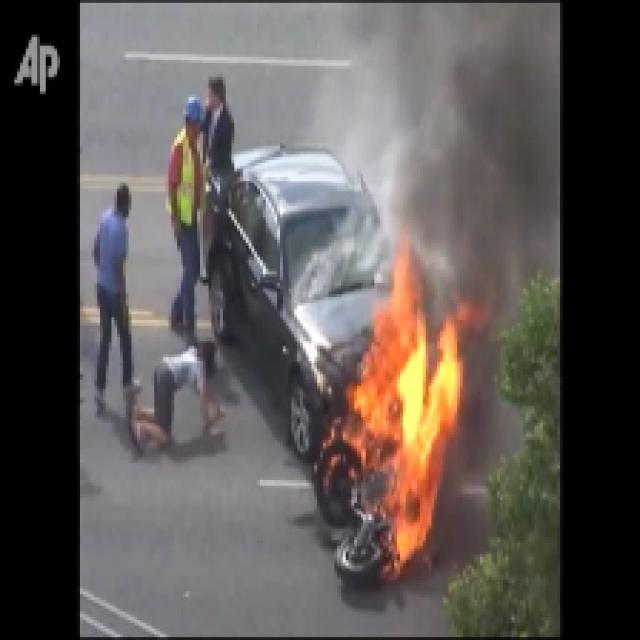Fire: (338, 316, 460, 560)
Smoke: (394, 0, 554, 251)
